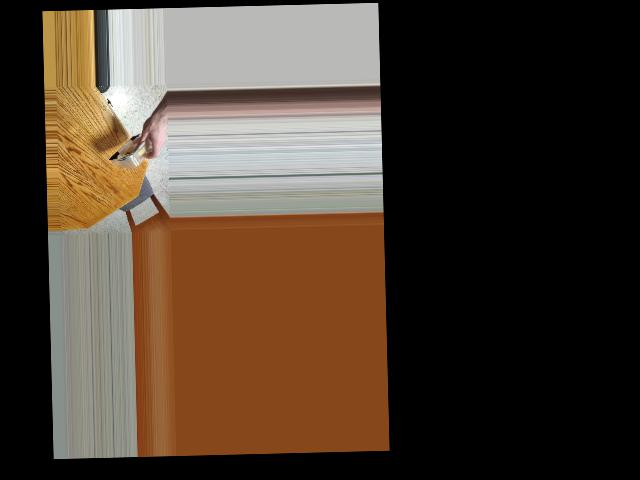cheese: (113, 127, 154, 178)
